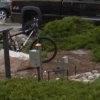Bicycle: (2, 23, 59, 63)
